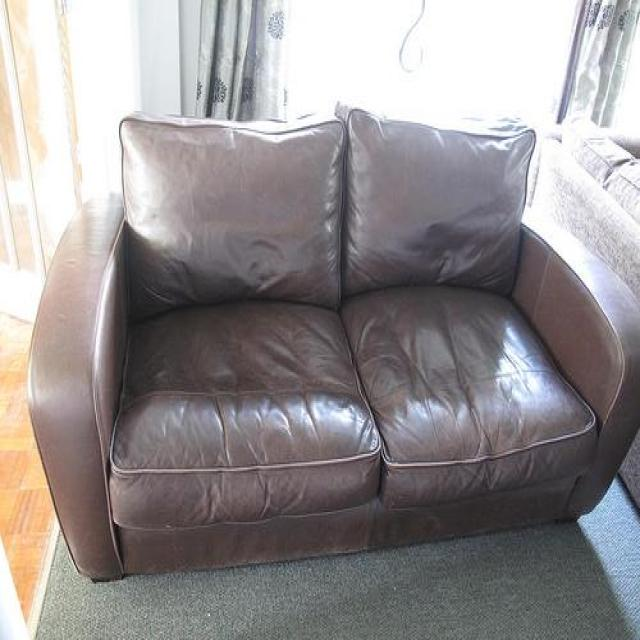sofa: (27, 102, 640, 587)
